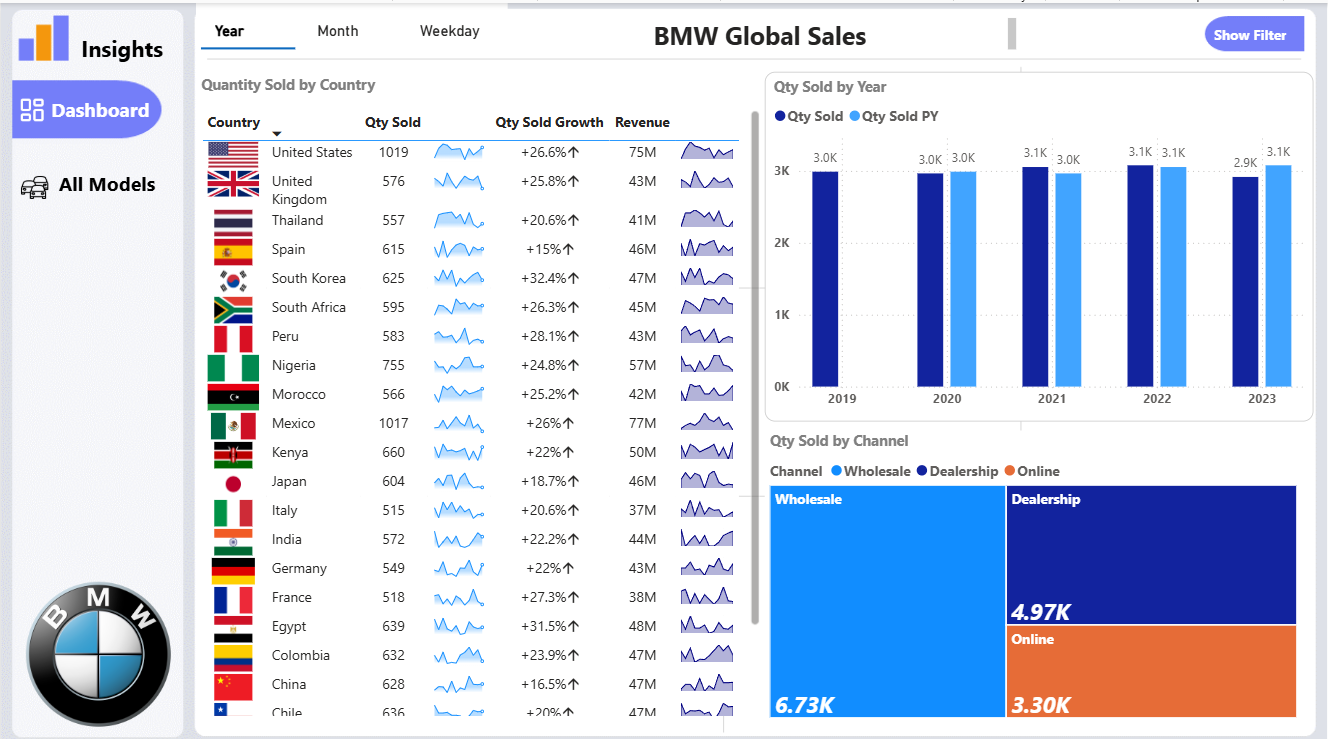

What the dashboard file says about the page in this screenshot:
{"tool":"powerbi","page":{"name":"Dashboard2","canvas":[1280,720],"ordinal":1},"visuals":[{"type":"advancedSlicerVisual","fields":{"Values":["PeriodSlicer.PeriodSlicer"]},"box":[188,0,300.5,50.8],"z":0},{"type":"clusteredColumnChart","title":"Qty Sold by Year","fields":{"Y":["All Measures.Qty Sold","All Measures.Qty Sold PY"],"Category":["Calendar.Year"]},"box":[737.1,66.4,529.6,337.8],"z":1000},{"type":"textbox","box":[188.2,63.9,249.7,35],"z":2000},{"type":"tableEx","fields":{"Values":["Dim_Country.Flag","Dim_Country.Country","All Measures.Qty Sold","All Measures.Opaque Area Sparkline (no one value) bright","All Measures.Qty Sold Variance % Arrow","All Measures.Revenue","All Measures.Revenue Sparkline"]},"box":[188.2,98.9,548.9,593.6],"z":3000},{"type":"textbox","box":[43.4,85.7,129.1,42.2],"z":4000},{"type":"image","box":[12.1,84.5,36.2,37.4],"z":5000},{"type":"image","box":[15,156.4,36.2,42.2],"z":6000},{"type":"textbox","box":[51.2,156.4,129.1,42.2],"z":7000},{"type":"actionButton","box":[11.1,149.4,159.3,49.5],"z":8000},{"type":"actionButton","box":[1155.7,10,100,40],"z":10000},{"type":"image","box":[0,553.8,187.5,150],"z":11000},{"type":"textbox","box":[72.5,23.8,115,42.5],"z":12000},{"type":"treemap","fields":{"Group":["Dim_Channel.Channel"],"Values":["All Measures.Qty Sold"]},"box":[737.1,412.6,518.8,282.3],"z":13000},{"type":"image","box":[0,0,82.5,63.8],"z":14000},{"type":"textbox","box":[489,10,496,41],"z":15000}]}

Visuals, with their boxes on the page's 1280x720 design canvas (x1, y1, x2, y2). These are canvas units, not pixel positions in the 1328x739 screenshot, which may show the page scaled, cropped or inside an application window:
advancedSlicerVisual - PeriodSlicer.PeriodSlicer: crop(188, 0, 488, 51)
"Qty Sold by Year" clusteredColumnChart: crop(737, 66, 1267, 404)
textbox: crop(188, 64, 438, 99)
tableEx - Dim_Country.Flag x Dim_Country.Country: crop(188, 99, 737, 692)
textbox: crop(43, 86, 172, 128)
image: crop(12, 84, 48, 122)
image: crop(15, 156, 51, 199)
textbox: crop(51, 156, 180, 199)
actionButton: crop(11, 149, 170, 199)
actionButton: crop(1156, 10, 1256, 50)
image: crop(0, 554, 188, 704)
textbox: crop(72, 24, 188, 66)
treemap - Dim_Channel.Channel x All Measures.Qty Sold: crop(737, 413, 1256, 695)
image: crop(0, 0, 82, 64)
textbox: crop(489, 10, 985, 51)
